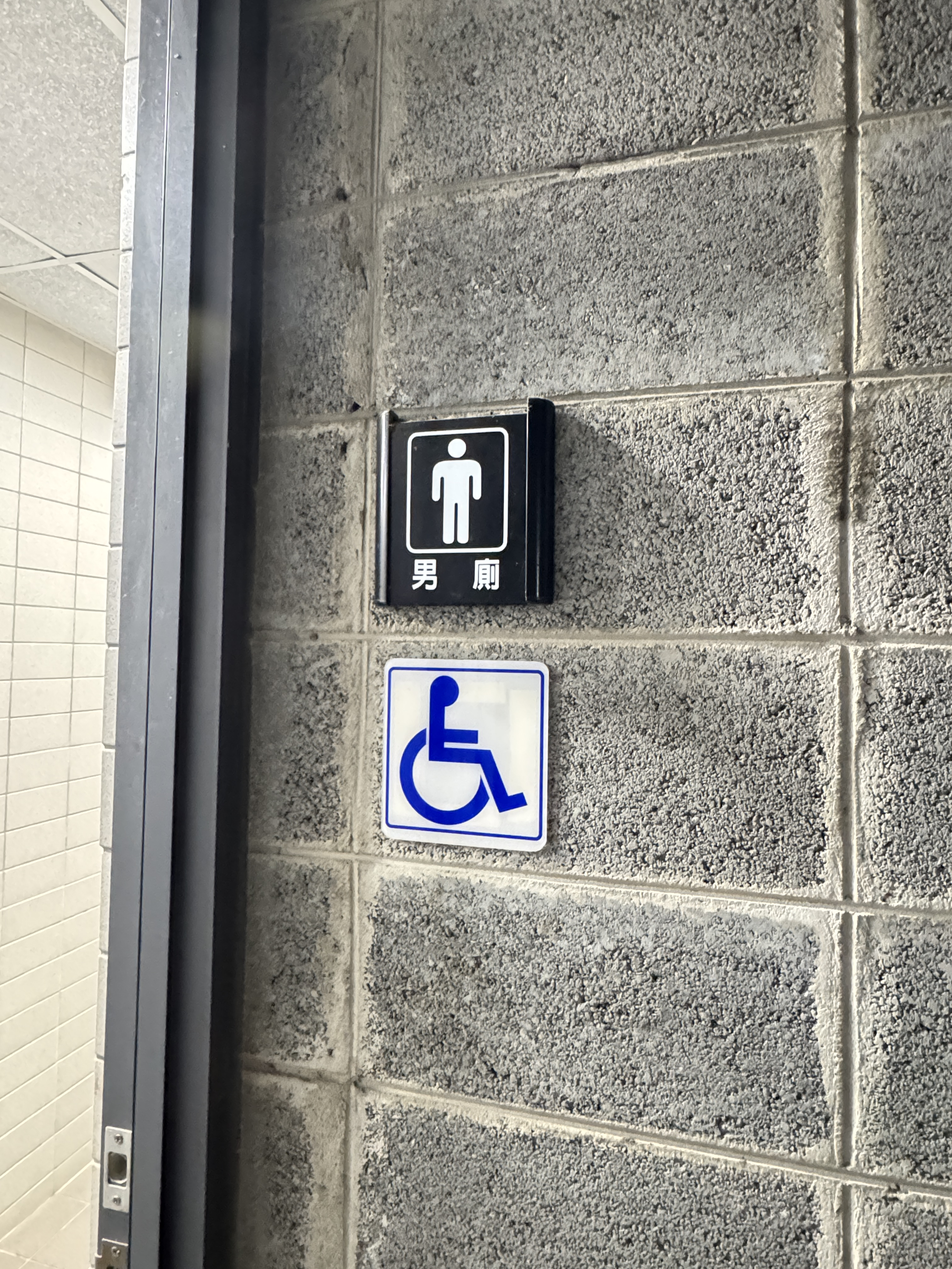toilet_sign: (342, 375, 582, 644), (371, 396, 558, 613)
